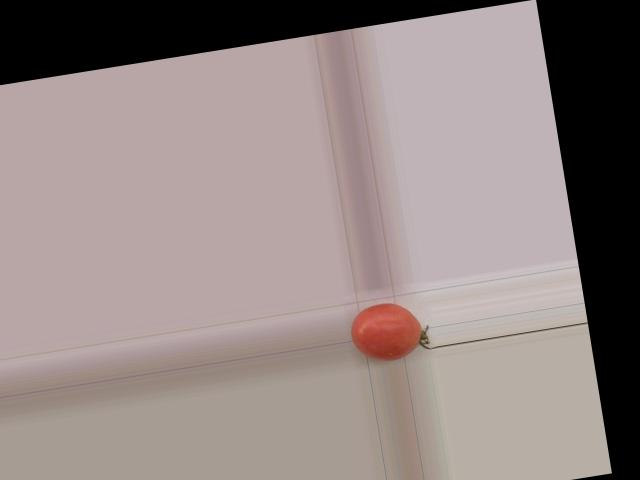tomato: (347, 298, 425, 365)
